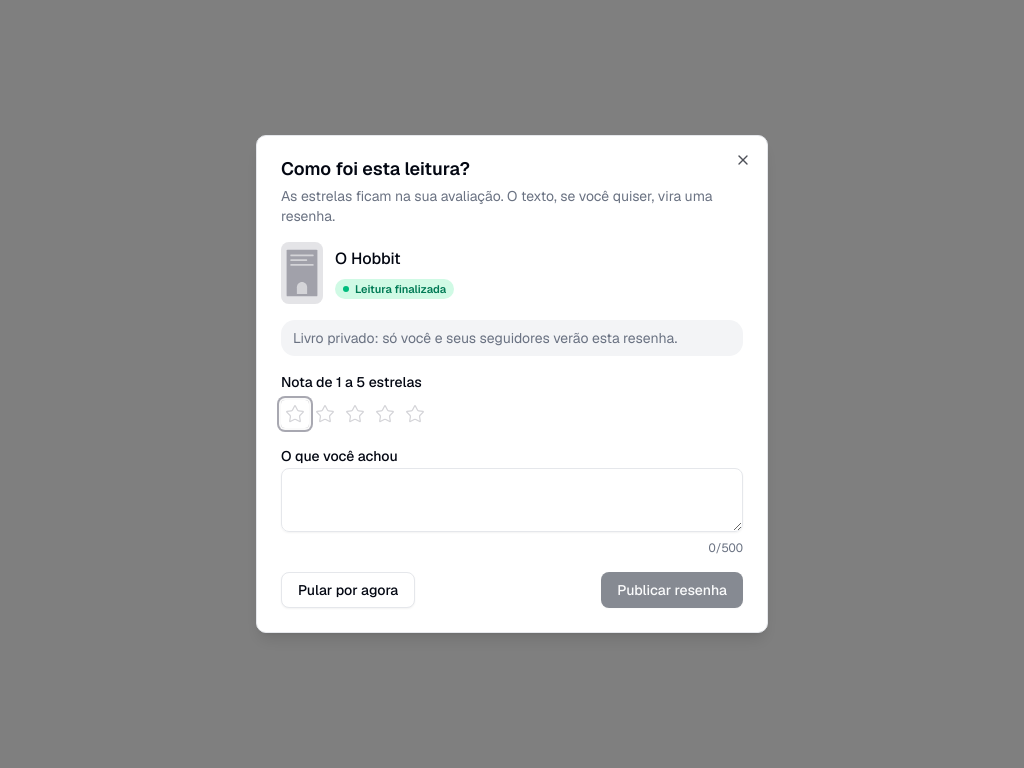
ReviewComposerDialog › na finalização, sem texto, salva só a avaliação
The image size is (1024, 768).
Check: the text "Livro privado: só você e seus seguidores verão esta resenha." is shown, box left=281, top=320, right=743, bottom=356
Click the button named "4 estrelas": (385, 414) left=371, top=400, right=399, bottom=428
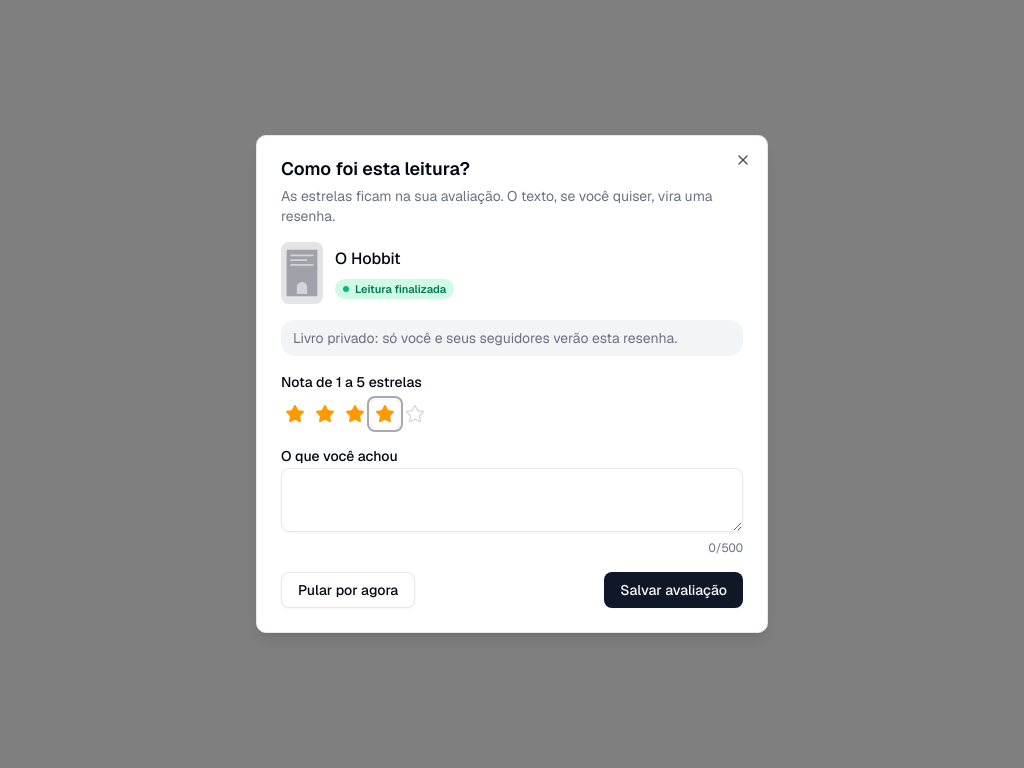
Check: the button "Salvar avaliação" is enabled, box left=604, top=572, right=743, bottom=608
